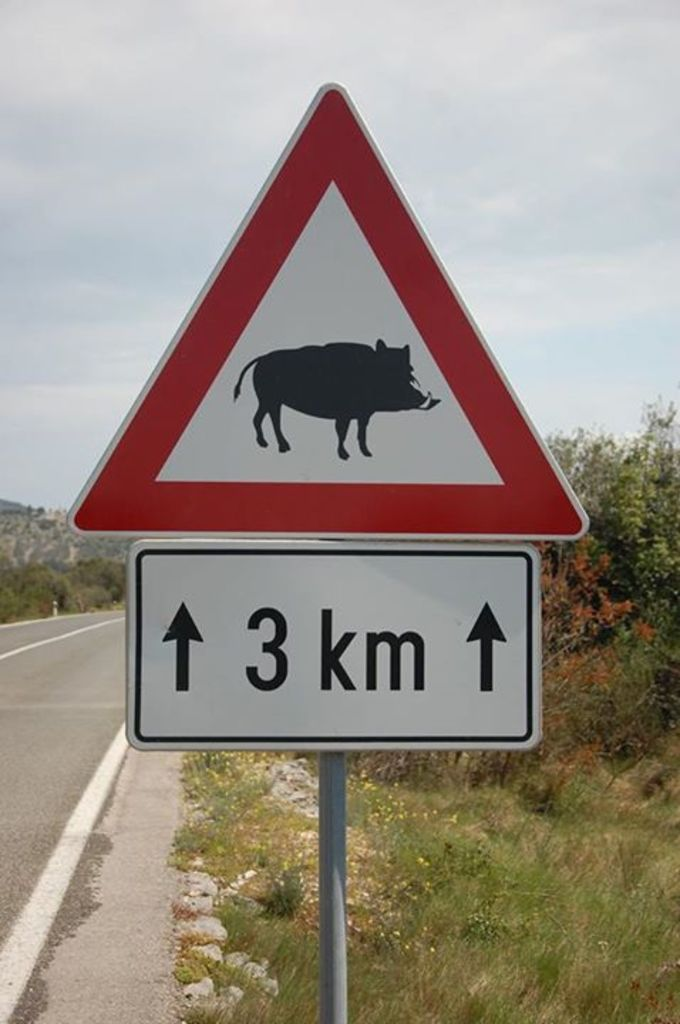animals_ahead: (51, 70, 593, 549)
